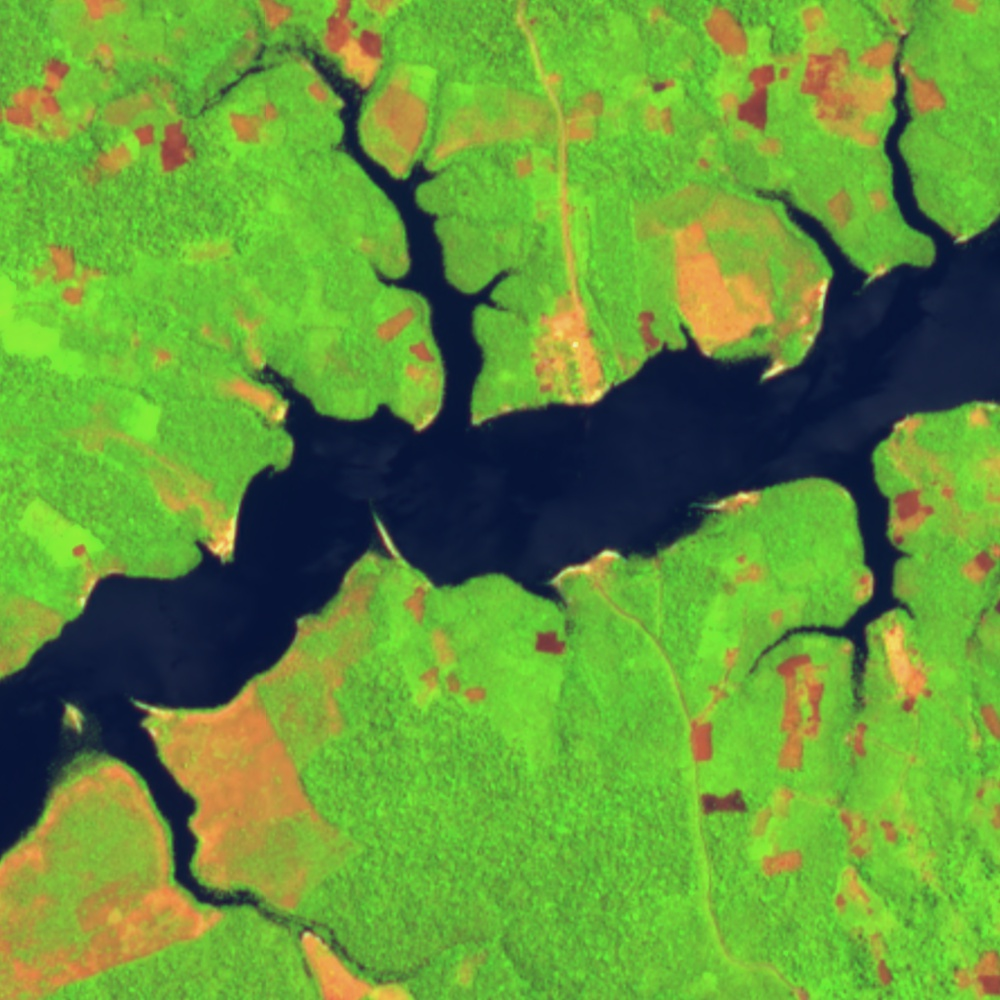legal: (1, 764, 224, 1000), (136, 679, 345, 915), (1, 44, 202, 183), (262, 562, 395, 754), (322, 1, 435, 179), (800, 3, 903, 150), (829, 802, 909, 985), (671, 220, 774, 358), (402, 583, 491, 713), (208, 313, 293, 428), (374, 302, 449, 432), (297, 924, 420, 1000), (880, 412, 938, 548), (720, 58, 792, 158), (771, 653, 830, 774), (24, 498, 107, 584), (877, 619, 934, 716), (229, 1, 307, 67), (38, 239, 111, 308), (695, 786, 792, 832), (701, 3, 752, 64), (555, 547, 623, 592), (898, 55, 948, 116), (224, 100, 284, 148), (707, 644, 747, 714), (565, 86, 608, 146), (949, 950, 1000, 1000), (645, 76, 683, 138), (197, 516, 244, 564), (704, 487, 767, 519), (721, 551, 769, 593), (455, 942, 492, 989), (130, 330, 174, 367), (967, 540, 1000, 586), (688, 716, 716, 768), (81, 1, 135, 27), (529, 628, 570, 661), (842, 718, 874, 760), (760, 848, 804, 875), (831, 186, 857, 229), (639, 309, 662, 356), (968, 399, 1000, 430), (977, 700, 1000, 739), (853, 569, 874, 605)
